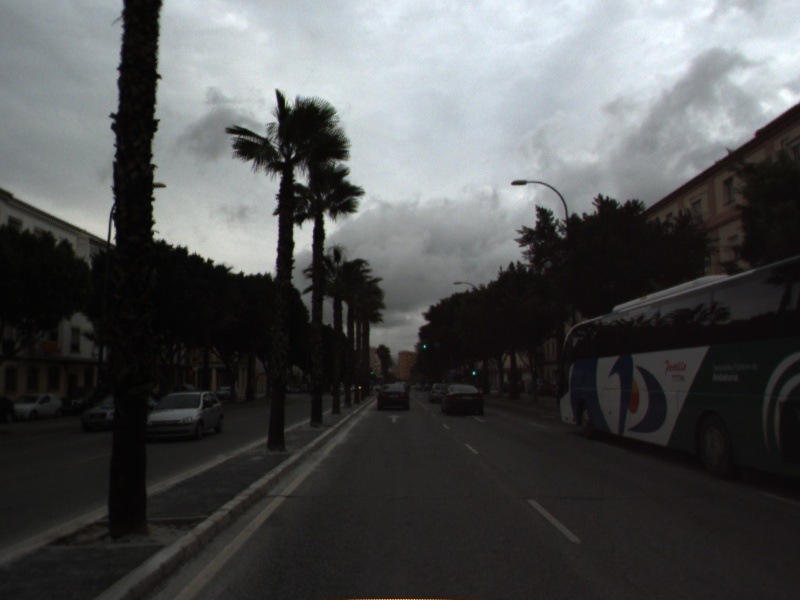STRAIGHT: (384, 412, 405, 425)
